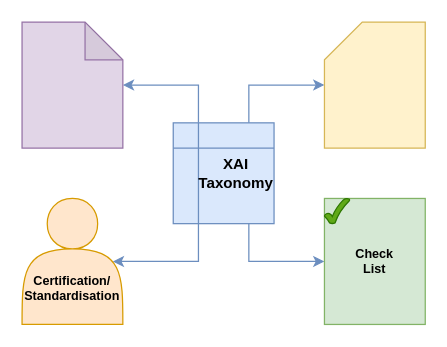
This 447x347 diagram has some shape labels left out. Each missing label, with the box of its shape:
Fact Sheet: (21, 21, 123, 148)
Work Sheet: (323, 21, 425, 148)
